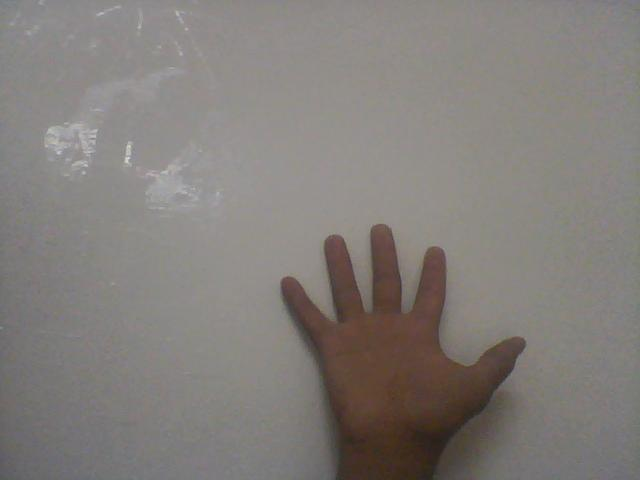hand: (272, 217, 540, 444)
